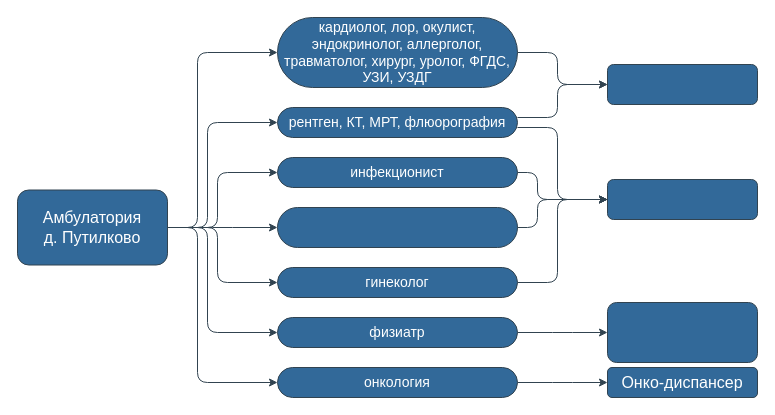
Image size: 775x415. Some labels were removed from this diagram. The shapes that lost their labels are listed below. From the top down, each one's centre as x and y in pixels, then its label:
At (682,84): "Поликлиника №2".
At (682,199): "Поликлиника №3".
At (397,227): "детская гинекология, детская стоматология".
At (682,332): "Противо- туберкулёзный диспансер".
